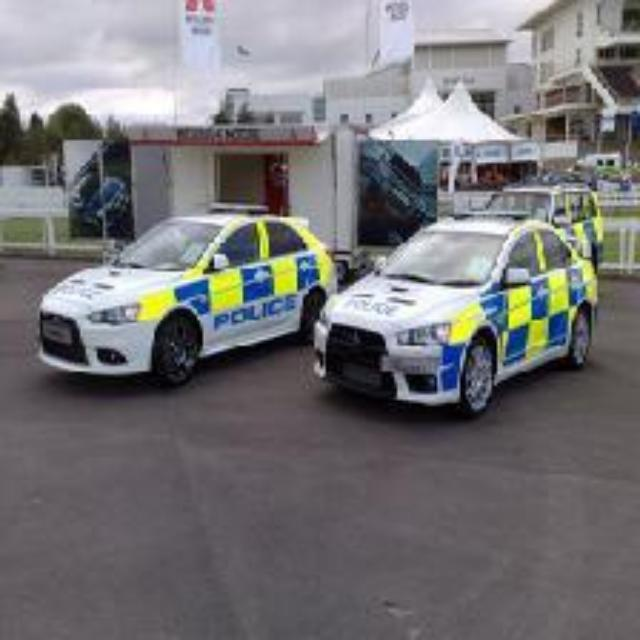emergency: (309, 202, 601, 418), (34, 201, 340, 389)
